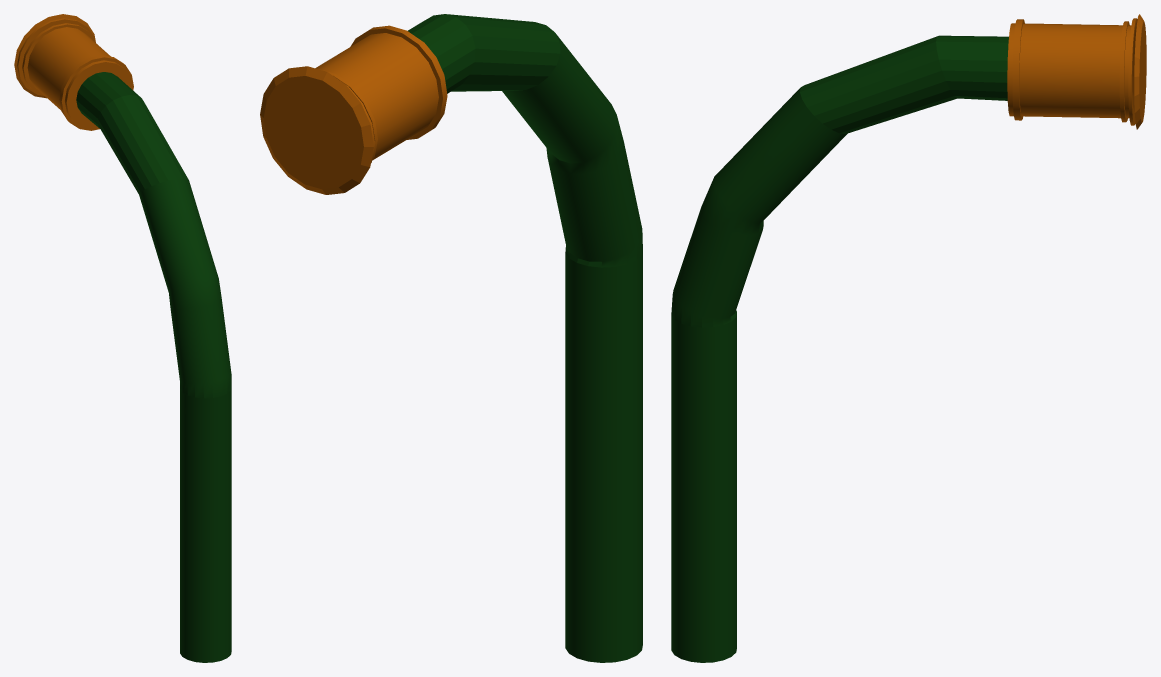
Rendered from hose.fbx.
The picture shows the model from 3 angles, left to right: view 1: azimuth 30°, elevation 25°; view 2: azimuth 150°, elevation 25°; view 3: azimuth 270°, elevation 25°; orthographic projection. The views are drawn at different scales.
Parts seen in each view (by area): view 1: HoseBody, HoseHead; view 2: HoseBody, HoseHead; view 3: HoseBody, HoseHead.
Part boxes in pixels (x1,y1,x2,y2): HoseBody: (76,72,231,662); HoseHead: (14,14,133,130); HoseBody: (408,14,642,662); HoseHead: (260,25,447,194); HoseBody: (671,35,1008,662); HoseHead: (1007,14,1146,129).
Bounding box in the file's own units: 0.7423 × 4.32 × 2.9.
